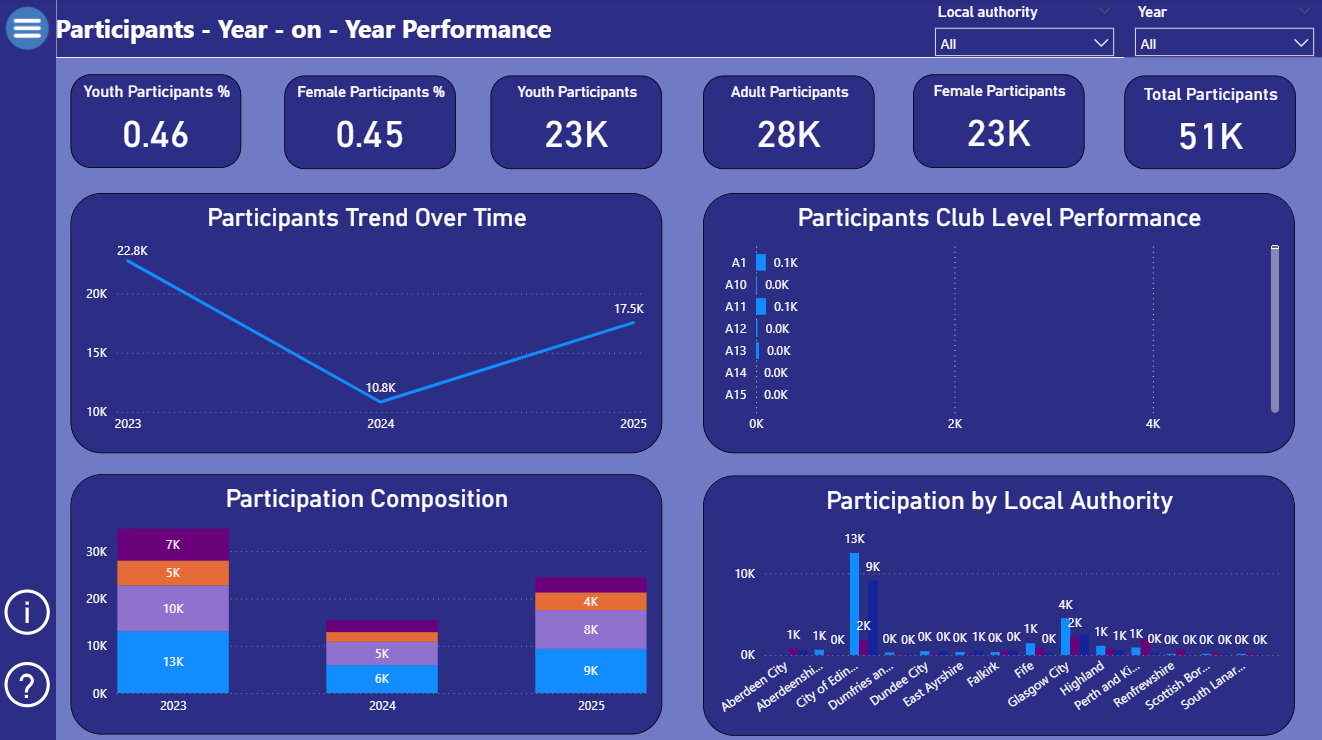

The page's visual inventory and layout, read from the dashboard file:
{"tool":"powerbi","page":{"name":"Participants","canvas":[1280,720],"ordinal":1},"visuals":[{"type":"shape","title":"Menu Bar","box":[0,0,56.2,720],"z":0,"group":"g1"},{"type":"shape","title":"Page Title","box":[55.9,0,1224.1,57.5],"z":0},{"type":"card","title":"Youth Participants %","fields":{"Values":["Participants.Youth % (Participants)"]},"box":[70,74,165,90],"z":1000},{"type":"actionButton","title":"Help Button","box":[0,635,56.2,56.2],"z":1000,"group":"g1"},{"type":"card","title":"Female Participants %","fields":{"Values":["Participants.Female % (Participants)"]},"box":[275.7,74.3,165.7,90],"z":2000},{"type":"actionButton","title":"Info","box":[0,565,56.2,56.2],"z":2000,"group":"g1"},{"type":"actionButton","title":"Menu Button","box":[0,0,56.2,57.5],"z":3000,"group":"g1"},{"type":"card","title":"Youth Participants","fields":{"Values":["Participants.Participants Youth"]},"box":[475.7,74.3,165.7,90],"z":3000},{"type":"card","title":"Adult Participants","fields":{"Values":["Participants.Adult Participants"]},"box":[680,74.3,165.7,90],"z":5000},{"type":"card","title":"Female Participants","fields":{"Values":["Participants.Participants Female"]},"box":[883.6,73.7,165.7,90],"z":6000},{"type":"card","title":"Total Participants","fields":{"Values":["Participants.Participants Total"]},"box":[1087.1,74.3,165.7,90],"z":7000},{"type":"lineChart","title":"Participants Trend Over Time","fields":{"Category":["Participants.Year"],"Y":["Participants.Participants Total"]},"box":[70.3,188.2,571,251],"z":8000},{"type":"columnChart","title":"Participation Composition","fields":{"Category":["Participants.Year"],"Y":["Participants.Participants Male","Participants.Participants Female","Sum(Participants.Youth Female)","Sum(Participants.Youth Male)"]},"box":[70.3,459.3,571,251],"z":9000},{"type":"clusteredColumnChart","title":"Participation by Local Authority","fields":{"Category":["Clubs.Local  authority"],"Series":["Participants.Year"],"Y":["Participants.Participants Total"]},"box":[680.2,460.5,571,251],"z":10000},{"type":"clusteredBarChart","title":"Participants Club Level Performance","fields":{"Category":["Participants.Clubname"],"Y":["Participants.Participants Total"]},"box":[680.2,188.2,571,251],"z":11000},{"type":"slicer","title":"Local Authority Slicer(Part)","fields":{"Values":["Clubs.Local  authority"]},"box":[893.6,0,193.2,57.2],"z":12000},{"type":"slicer","title":"Year Slicer(Participants)","fields":{"Values":["Participants.Year"]},"box":[1086.7,0,193.3,57.7],"z":13000},{"type":"group","id":"g1","title":"Menu Bar","box":[0,0,56.2,720],"z":15000}]}

Visuals, with their boxes in screenshot pixels (x1, y1, x2, y2), scaled from the page's 1280x720 canvas onto the 1322x740 screenshot:
"Menu Bar" shape: l=0, t=0, r=58, b=739
"Page Title" shape: l=58, t=0, r=1321, b=59
"Youth Participants %" card: l=72, t=76, r=243, b=169
"Help Button" actionButton: l=0, t=653, r=58, b=710
"Female Participants %" card: l=285, t=76, r=456, b=169
"Info" actionButton: l=0, t=581, r=58, b=638
"Menu Button" actionButton: l=0, t=0, r=58, b=59
"Youth Participants" card: l=491, t=76, r=662, b=169
"Adult Participants" card: l=702, t=76, r=873, b=169
"Female Participants" card: l=913, t=76, r=1084, b=168
"Total Participants" card: l=1123, t=76, r=1294, b=169
"Participants Trend Over Time" lineChart: l=73, t=193, r=662, b=451
"Participation Composition" columnChart: l=73, t=472, r=662, b=730
"Participation by Local Authority" clusteredColumnChart: l=703, t=473, r=1292, b=731
"Participants Club Level Performance" clusteredBarChart: l=703, t=193, r=1292, b=451
"Local Authority Slicer(Part)" slicer: l=923, t=0, r=1122, b=59
"Year Slicer(Participants)" slicer: l=1122, t=0, r=1321, b=59
"Menu Bar" group: l=0, t=0, r=58, b=739
